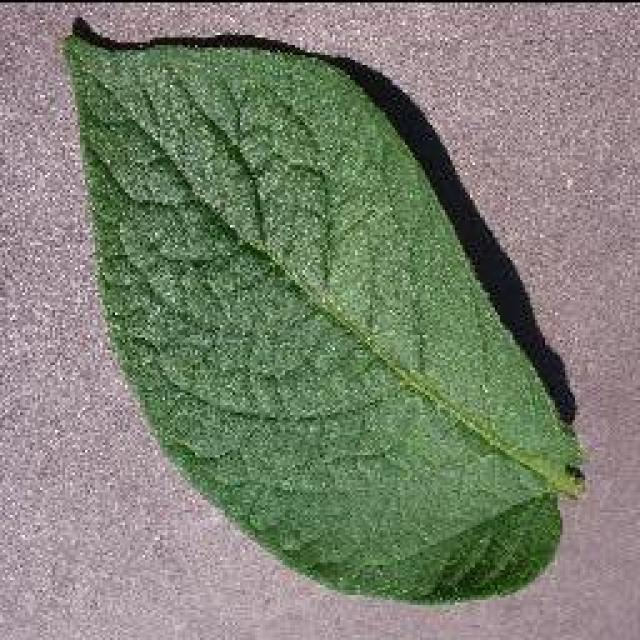Potato___healthy: (58, 26, 594, 608)
